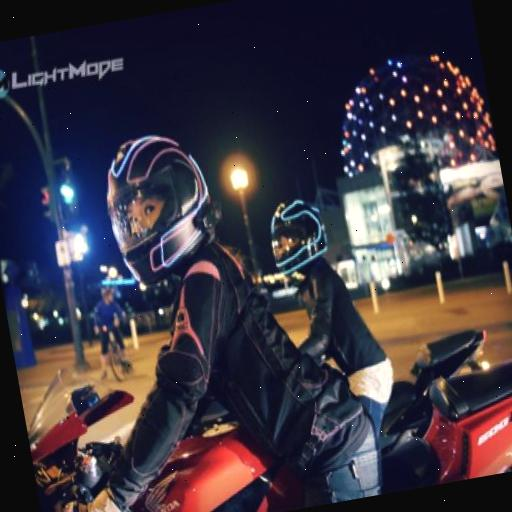helmet: (0, 83, 387, 512)
